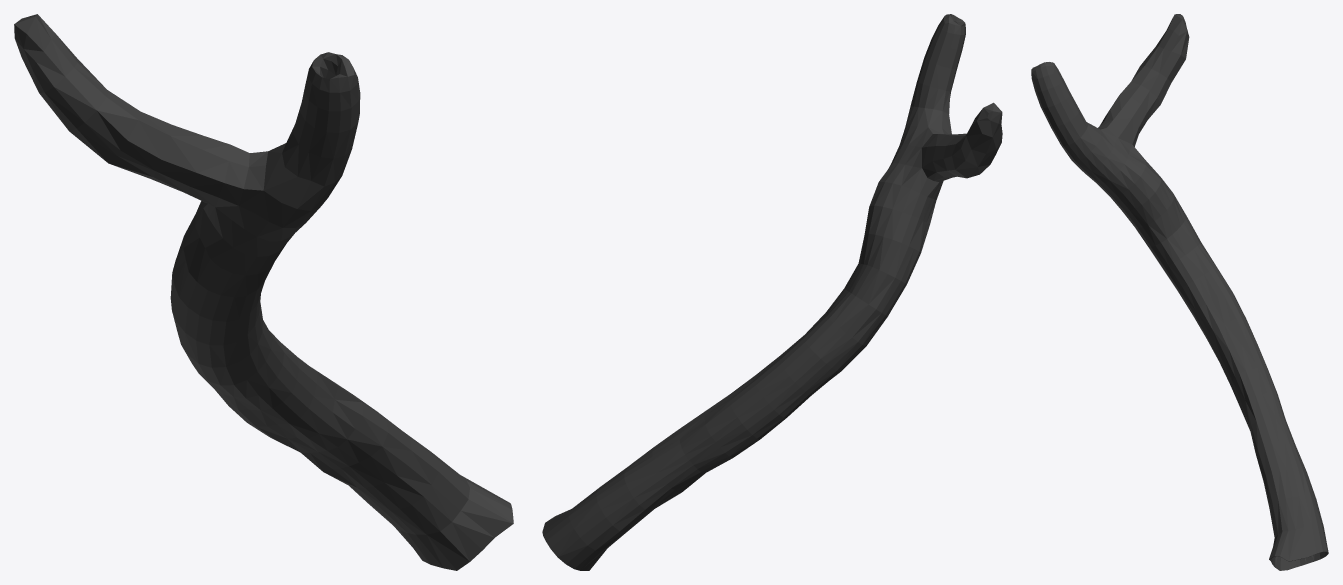
The model's file is Heart_L_subclavian_a.glb.
3 renders of one model, left to right at view 1: azimuth 30°, elevation 25°; view 2: azimuth 150°, elevation 25°; view 3: azimuth 270°, elevation 25°, orthographic. The views are drawn at different scales.
Visible parts, largest first — view 1: Heart_L_subclavian_a; view 2: Heart_L_subclavian_a; view 3: Heart_L_subclavian_a.
Part boxes in pixels (x1,y1,x2,y2): Heart_L_subclavian_a: [14, 14, 513, 570]; Heart_L_subclavian_a: [542, 14, 1002, 570]; Heart_L_subclavian_a: [1031, 14, 1328, 570].
Bounding box in the file's own units: 0.3146 × 0.3818 × 0.2456.
Materials: 1 (1 with a texture image).
